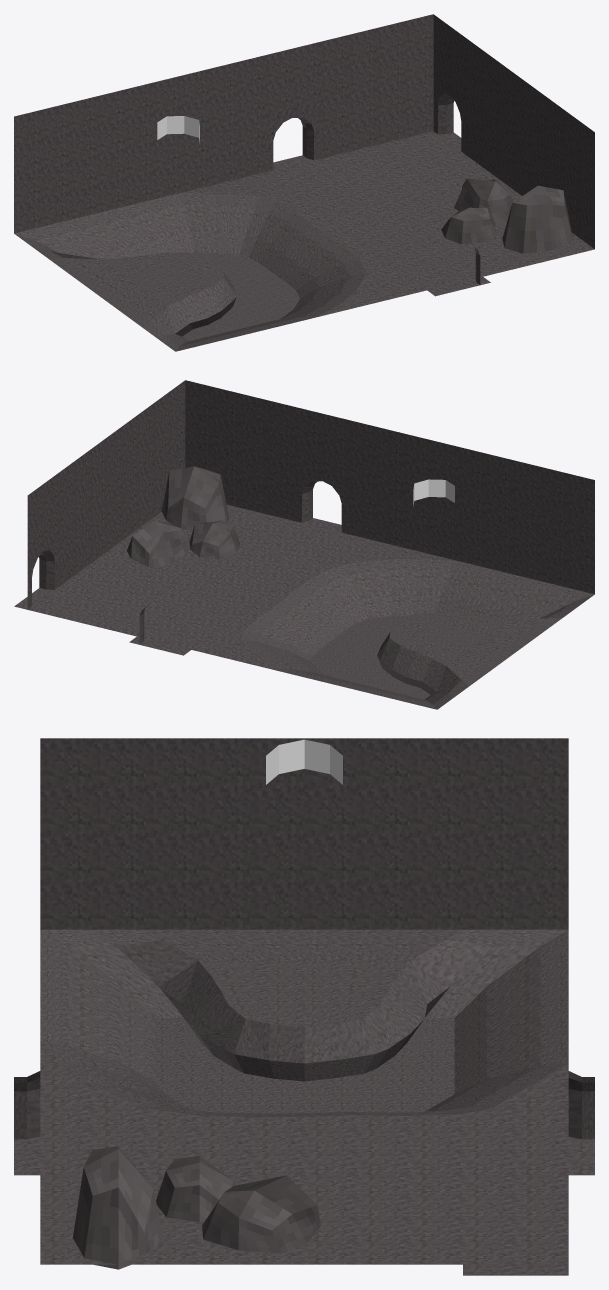
Rendered from Room6.glb.
3 renders of one model, top to bottom at view 1: azimuth 30°, elevation 25°; view 2: azimuth 150°, elevation 25°; view 3: azimuth 270°, elevation 25°, orthographic. The views are drawn at different scales.
Parts seen in each view (by area): view 1: Walls, Floor.001, pCube2, pCube3, pCube1, polySurface214; view 2: Walls, Floor.001, pCube2, pCube3, pCube1, polySurface214; view 3: Floor.001, Walls, pCube2, pCube3, pCube1, polySurface214.
Boxes of the visible parts, <box> form: Walls: <box>14,14,594,284</box>; Floor.001: <box>14,131,594,351</box>; pCube2: <box>502,185,573,253</box>; pCube3: <box>454,178,513,225</box>; pCube1: <box>441,207,497,244</box>; polySurface214: <box>157,116,199,143</box>; Walls: <box>27,380,594,644</box>; Floor.001: <box>14,504,594,709</box>; pCube2: <box>161,466,228,530</box>; pCube3: <box>127,521,189,567</box>; pCube1: <box>189,521,240,558</box>; polySurface214: <box>413,479,454,506</box>; Floor.001: <box>14,929,594,1275</box>; Walls: <box>14,738,594,1139</box>; pCube2: <box>73,1146,163,1269</box>; pCube3: <box>202,1175,320,1253</box>; pCube1: <box>156,1156,235,1222</box>; polySurface214: <box>266,739,342,784</box>.
Size of the model in its own units: 15.5 by 6.03 by 11.
Materials: 2 (2 with a texture image).
